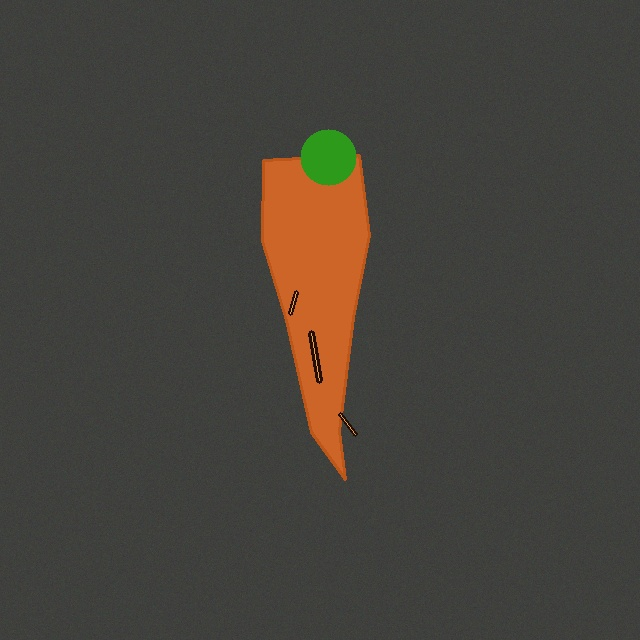Damaged_Carrot: (254, 147, 377, 487)
